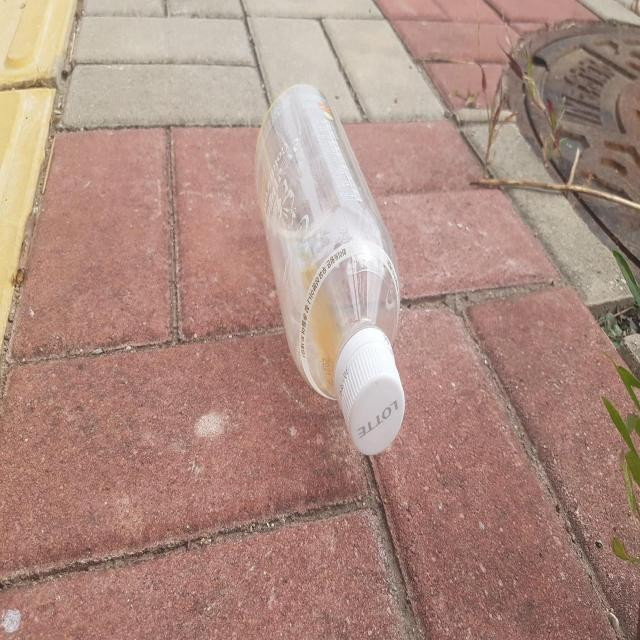plastic: (256, 83, 405, 455)
